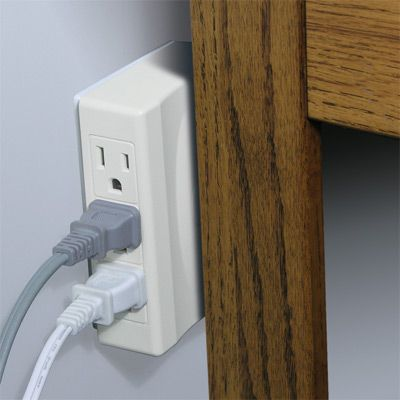outlet: (93, 141, 134, 195)
